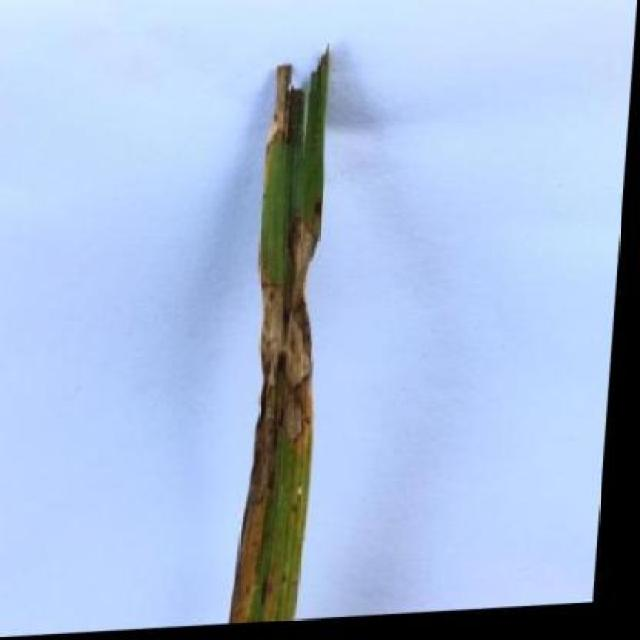Brown_Spot: (228, 40, 346, 628)
